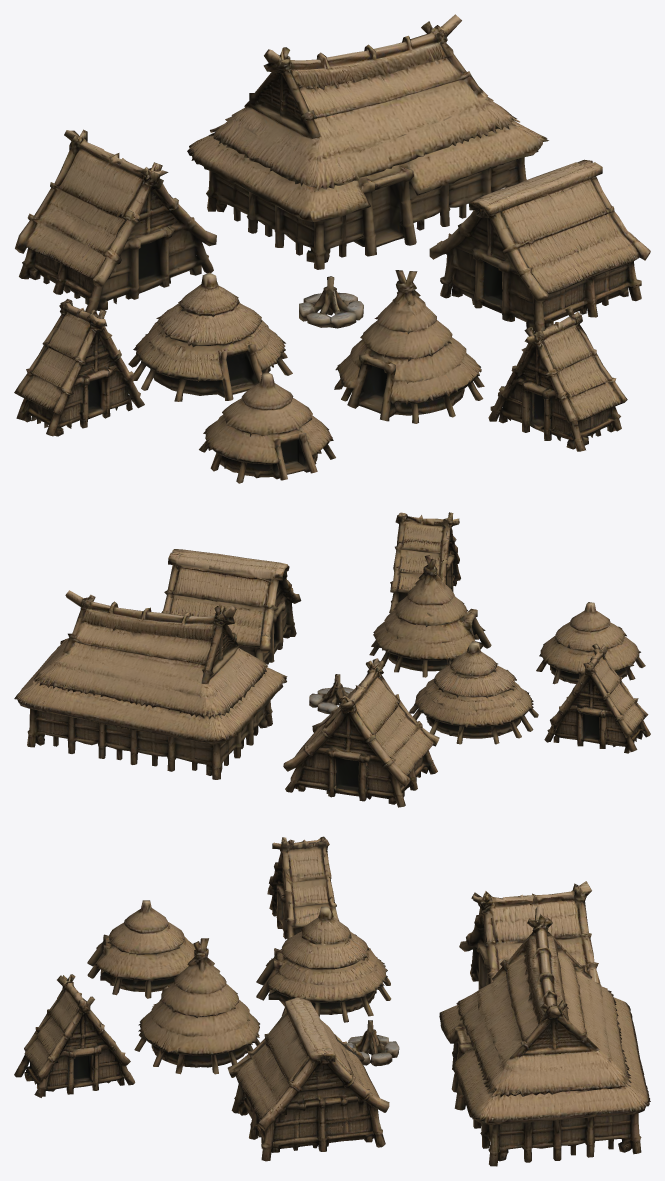
Rendered from Prehistoric Village (East Asian).fbx.
The picture shows the model from 3 angles, top to bottom: view 1: azimuth 30°, elevation 25°; view 2: azimuth 150°, elevation 25°; view 3: azimuth 270°, elevation 25°; orthographic projection. The views are drawn at different scales.
Visible parts, largest first — view 1: tripo_node_3e637a9e; view 2: tripo_node_3e637a9e; view 3: tripo_node_3e637a9e.
Part boxes in pixels (box(x1,y1,x2,y2)): tripo_node_3e637a9e: box(14, 14, 650, 483); tripo_node_3e637a9e: box(14, 512, 650, 807); tripo_node_3e637a9e: box(14, 836, 650, 1166).
Bounding box in the file's own units: 0.9995 × 0.2872 × 1.
